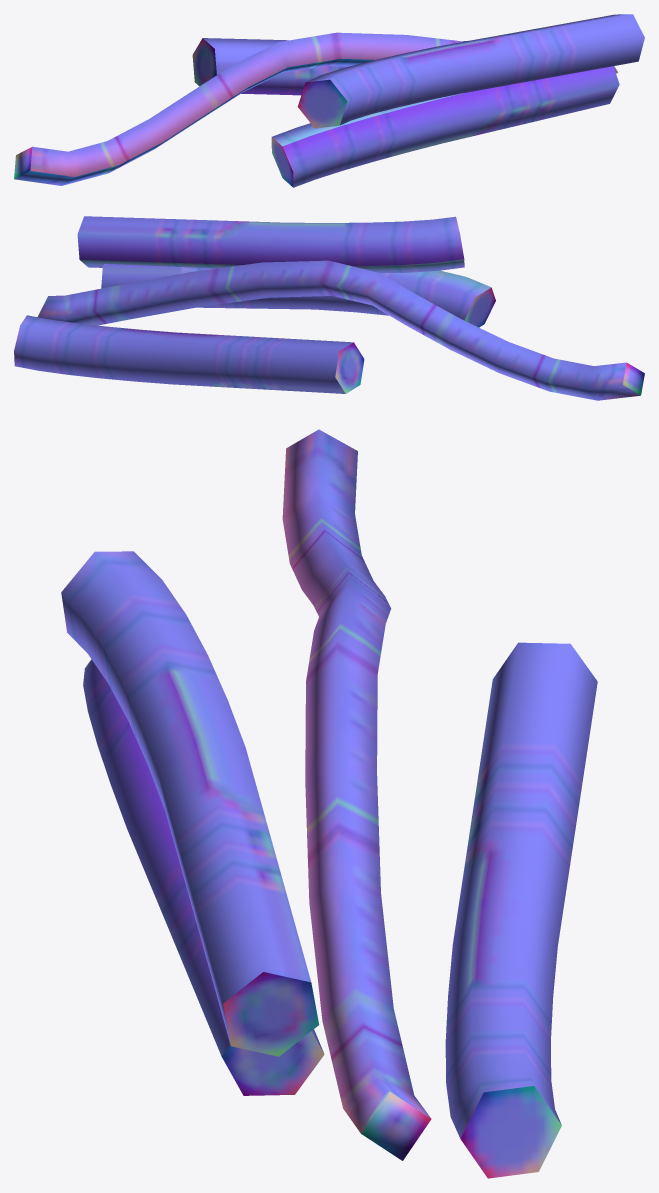
File: debris_cables_05.glb
3 views of the same model, one above another, from view 1: azimuth 30°, elevation 25°; view 2: azimuth 150°, elevation 25°; view 3: azimuth 270°, elevation 25° (orthographic). The views are drawn at different scales.
Visible parts, largest first — view 1: ship_debris_05_part_24 (2), ship_debris_05_part_24, ship_debris_05_part_23, ship_debris_05_part_24 (1); view 2: ship_debris_05_part_23, ship_debris_05_part_24 (1), ship_debris_05_part_24 (2), ship_debris_05_part_24; view 3: ship_debris_05_part_24 (1), ship_debris_05_part_23, ship_debris_05_part_24 (2), ship_debris_05_part_24.
Boxes of the visible parts, <box> form: ship_debris_05_part_24 (2): <box>297,14,644,128</box>; ship_debris_05_part_24: <box>271,66,619,187</box>; ship_debris_05_part_23: <box>14,32,617,185</box>; ship_debris_05_part_24 (1): <box>192,38,468,95</box>; ship_debris_05_part_23: <box>37,260,644,400</box>; ship_debris_05_part_24 (1): <box>14,315,364,393</box>; ship_debris_05_part_24 (2): <box>77,216,464,272</box>; ship_debris_05_part_24: <box>101,264,495,327</box>; ship_debris_05_part_24 (1): <box>445,642,597,1178</box>; ship_debris_05_part_23: <box>282,429,431,1160</box>; ship_debris_05_part_24 (2): <box>61,551,319,1056</box>; ship_debris_05_part_24: <box>83,659,324,1095</box>.
Bounding box in the file's own units: 3.42 × 0.8435 × 1.36.
Materials: 1 (1 with a texture image).
